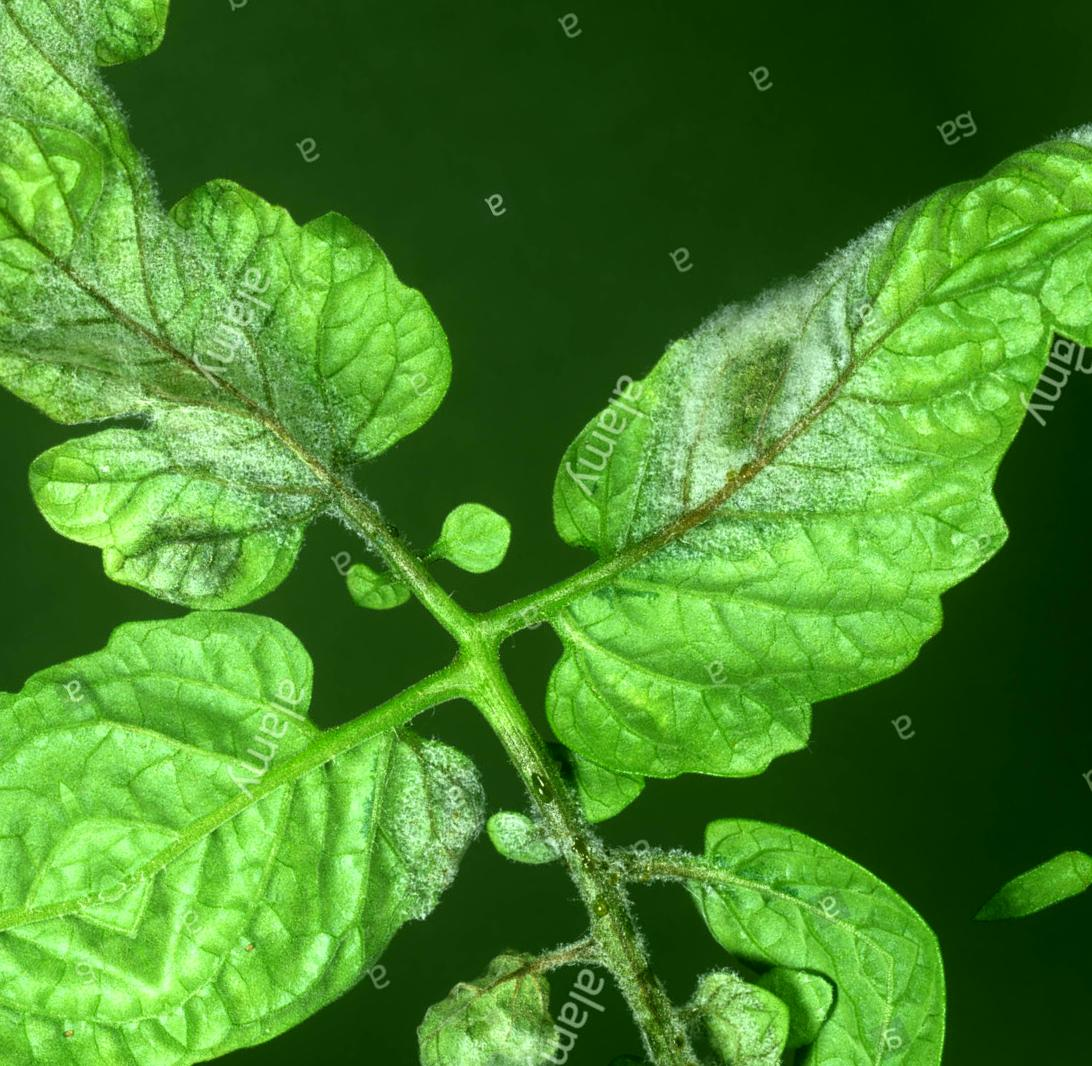Tomato leaf late blight: (376, 163, 1092, 881), (1, 489, 564, 1066), (0, 54, 511, 677)
